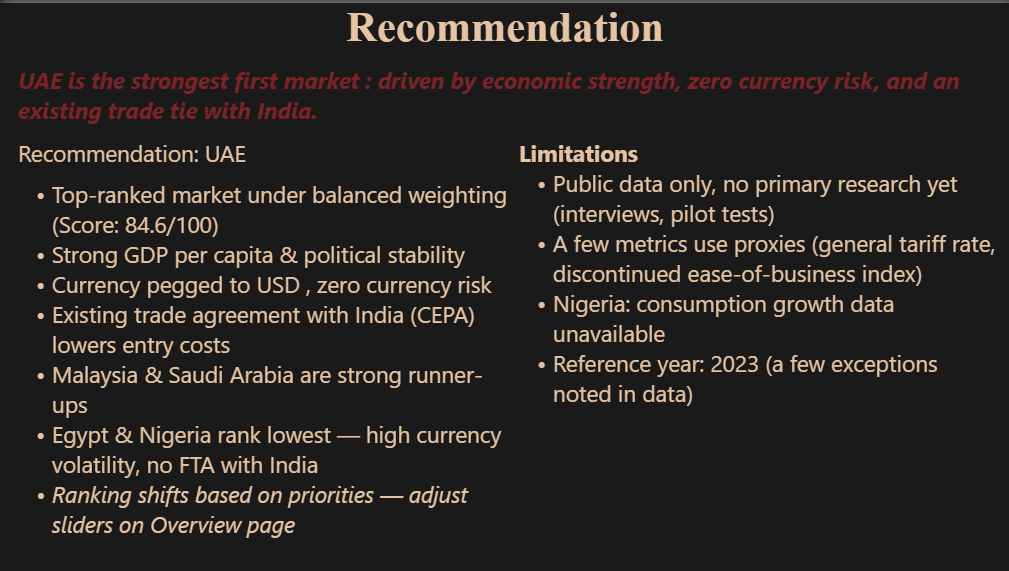

What the dashboard file says about the page in this screenshot:
{"tool":"powerbi","page":{"name":"Recommendation","canvas":[1920,1080],"ordinal":2},"visuals":[{"type":"textbox","box":[654.8,0,609.5,116.2],"z":0},{"type":"textbox","box":[34,116.2,1851,138.9],"z":1},{"type":"textbox","box":[34,255.1,926.9,805],"z":2},{"type":"textbox","box":[980.8,255.1,904.3,805],"z":3}]}

Visuals, with their boxes in screenshot pixels (x1, y1, x2, y2), scaled from the page's 1920x1080 canvas onto the 1009x571 screenshot:
textbox: 344 0 664 61
textbox: 18 61 991 135
textbox: 18 135 505 560
textbox: 515 135 991 560
